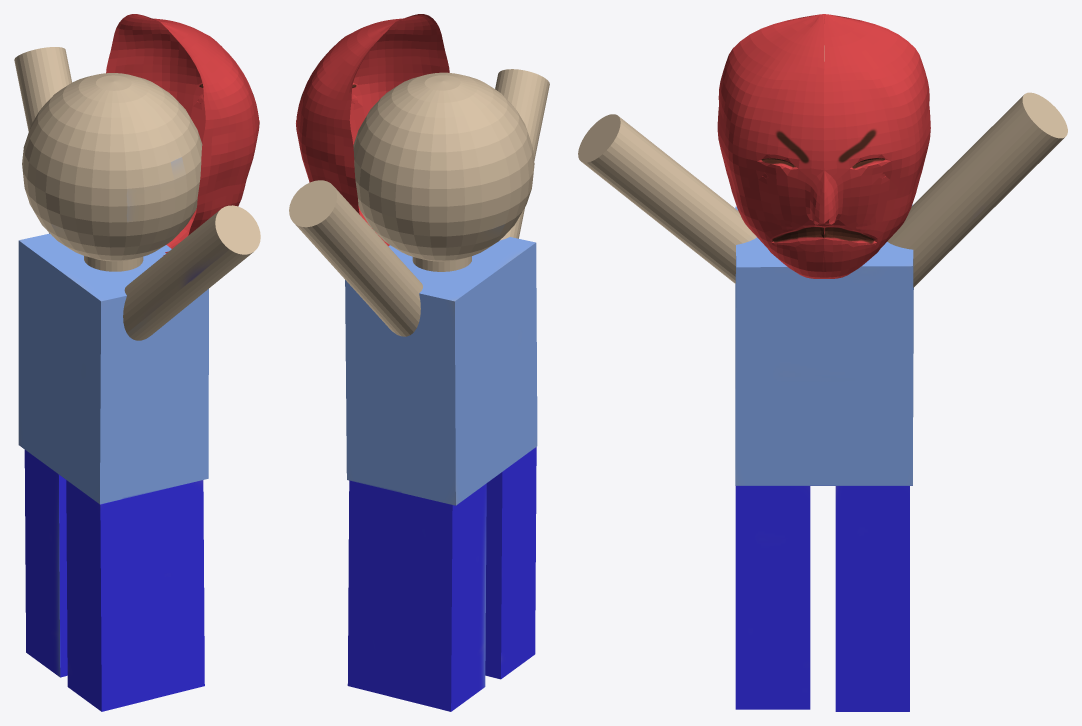
File: person_standing_angry.fbx
3 views of the same model, side by side, from view 1: azimuth 30°, elevation 25°; view 2: azimuth 150°, elevation 25°; view 3: azimuth 270°, elevation 25° (orthographic). The views are drawn at different scales.
Visible parts, largest first — view 1: Cube.001, Sphere.002; view 2: Cube.001, Sphere.002; view 3: Cube.001, Sphere.002.
Boxes of the visible parts, left/top/right/bottom form: Cube.001: left=14, top=47, right=260, bottom=711; Sphere.002: left=106, top=14, right=259, bottom=255; Cube.001: left=289, top=69, right=549, bottom=711; Sphere.002: left=296, top=14, right=449, bottom=246; Cube.001: left=578, top=45, right=1067, bottom=711; Sphere.002: left=717, top=14, right=930, bottom=278.
Bounding box in the file's own units: 222 × 614 × 392.
2 materials, 2 textured.
